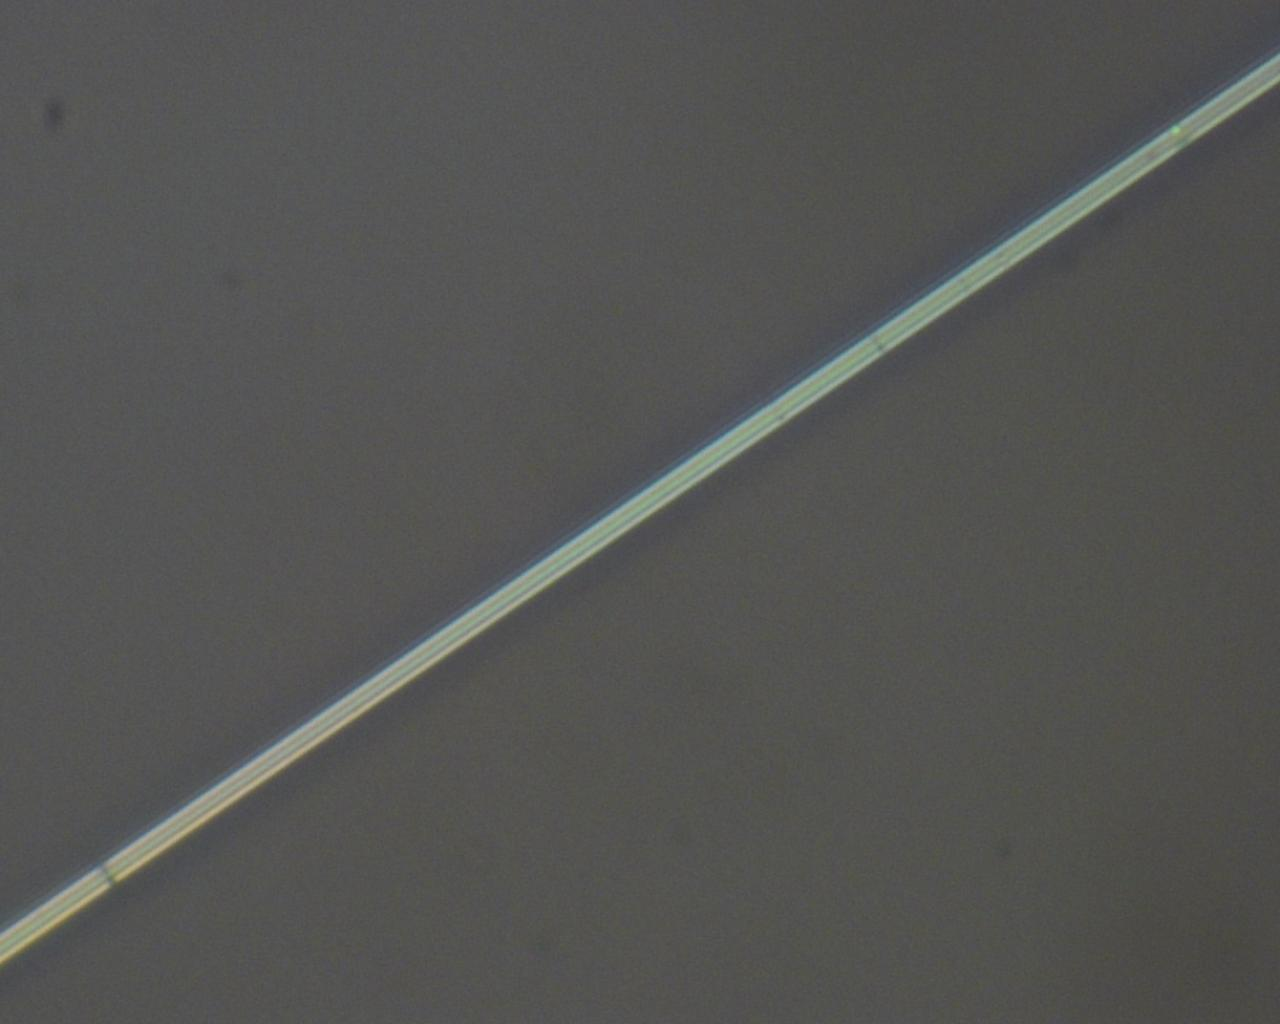fiber: (0, 460, 552, 1019), (719, 460, 1280, 765), (158, 0, 334, 460)
